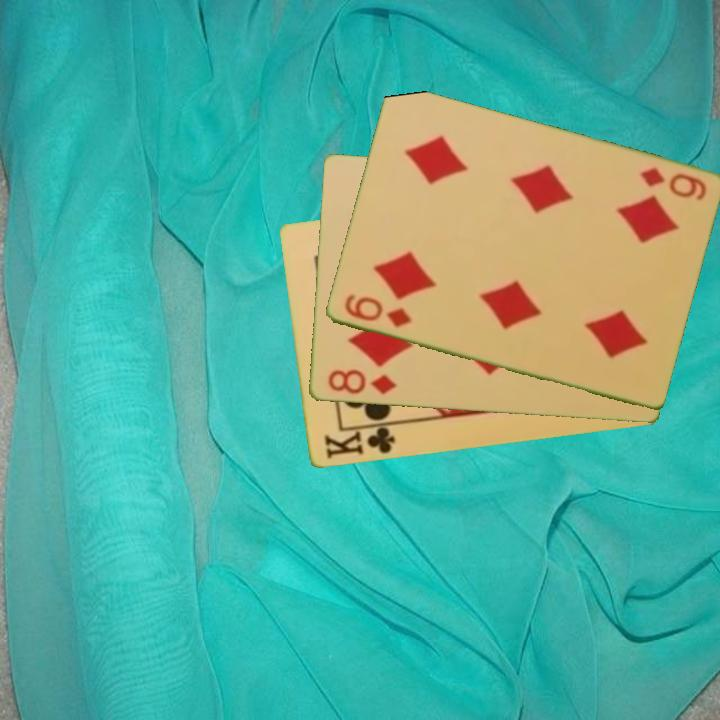6d: (340, 291, 414, 331), (636, 164, 709, 204)
8d: (324, 366, 399, 398)
Kc: (320, 420, 399, 462)
